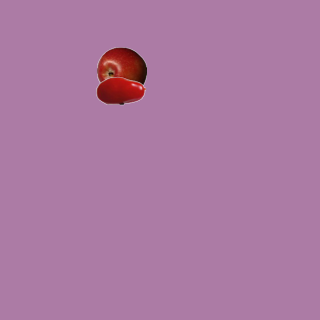Apple Braeburn: (96, 46, 146, 96)
Tomato 2: (95, 65, 145, 115)
